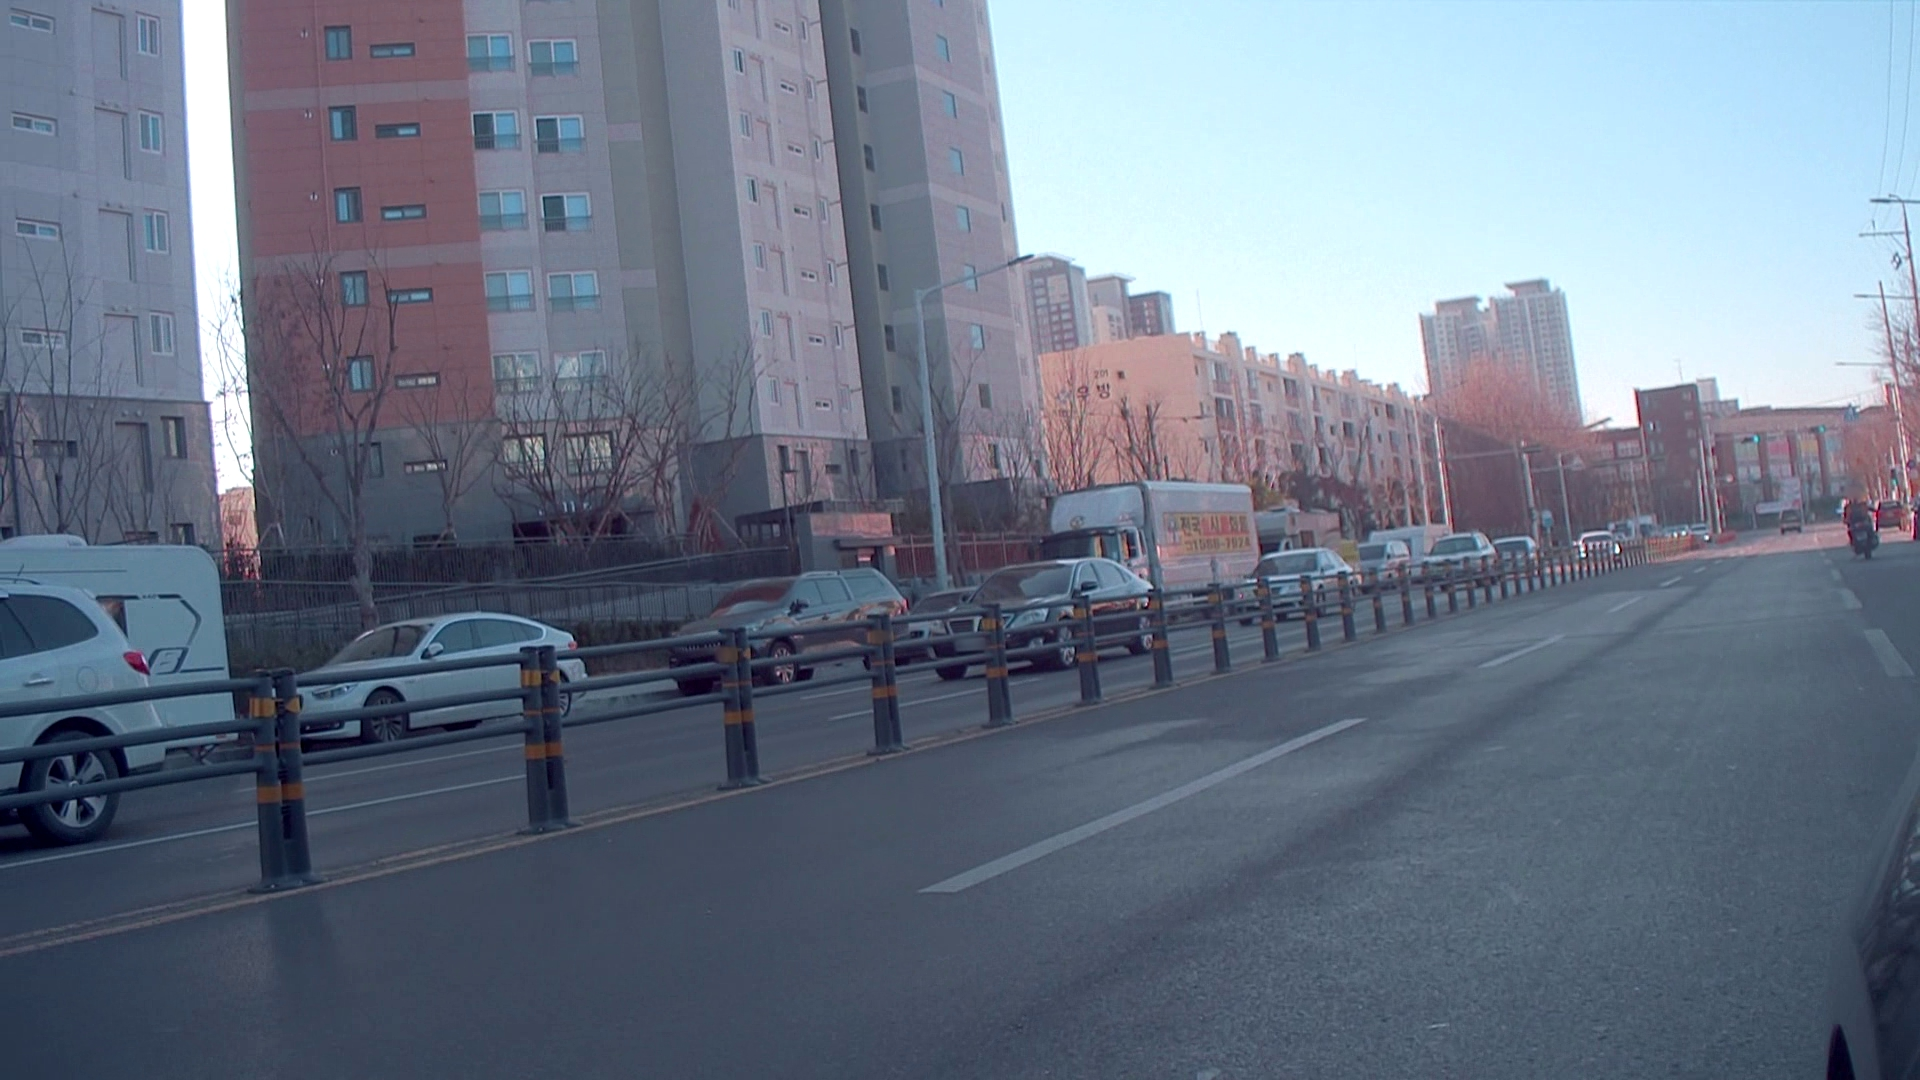trafficLight: (1735, 423, 1836, 448)
